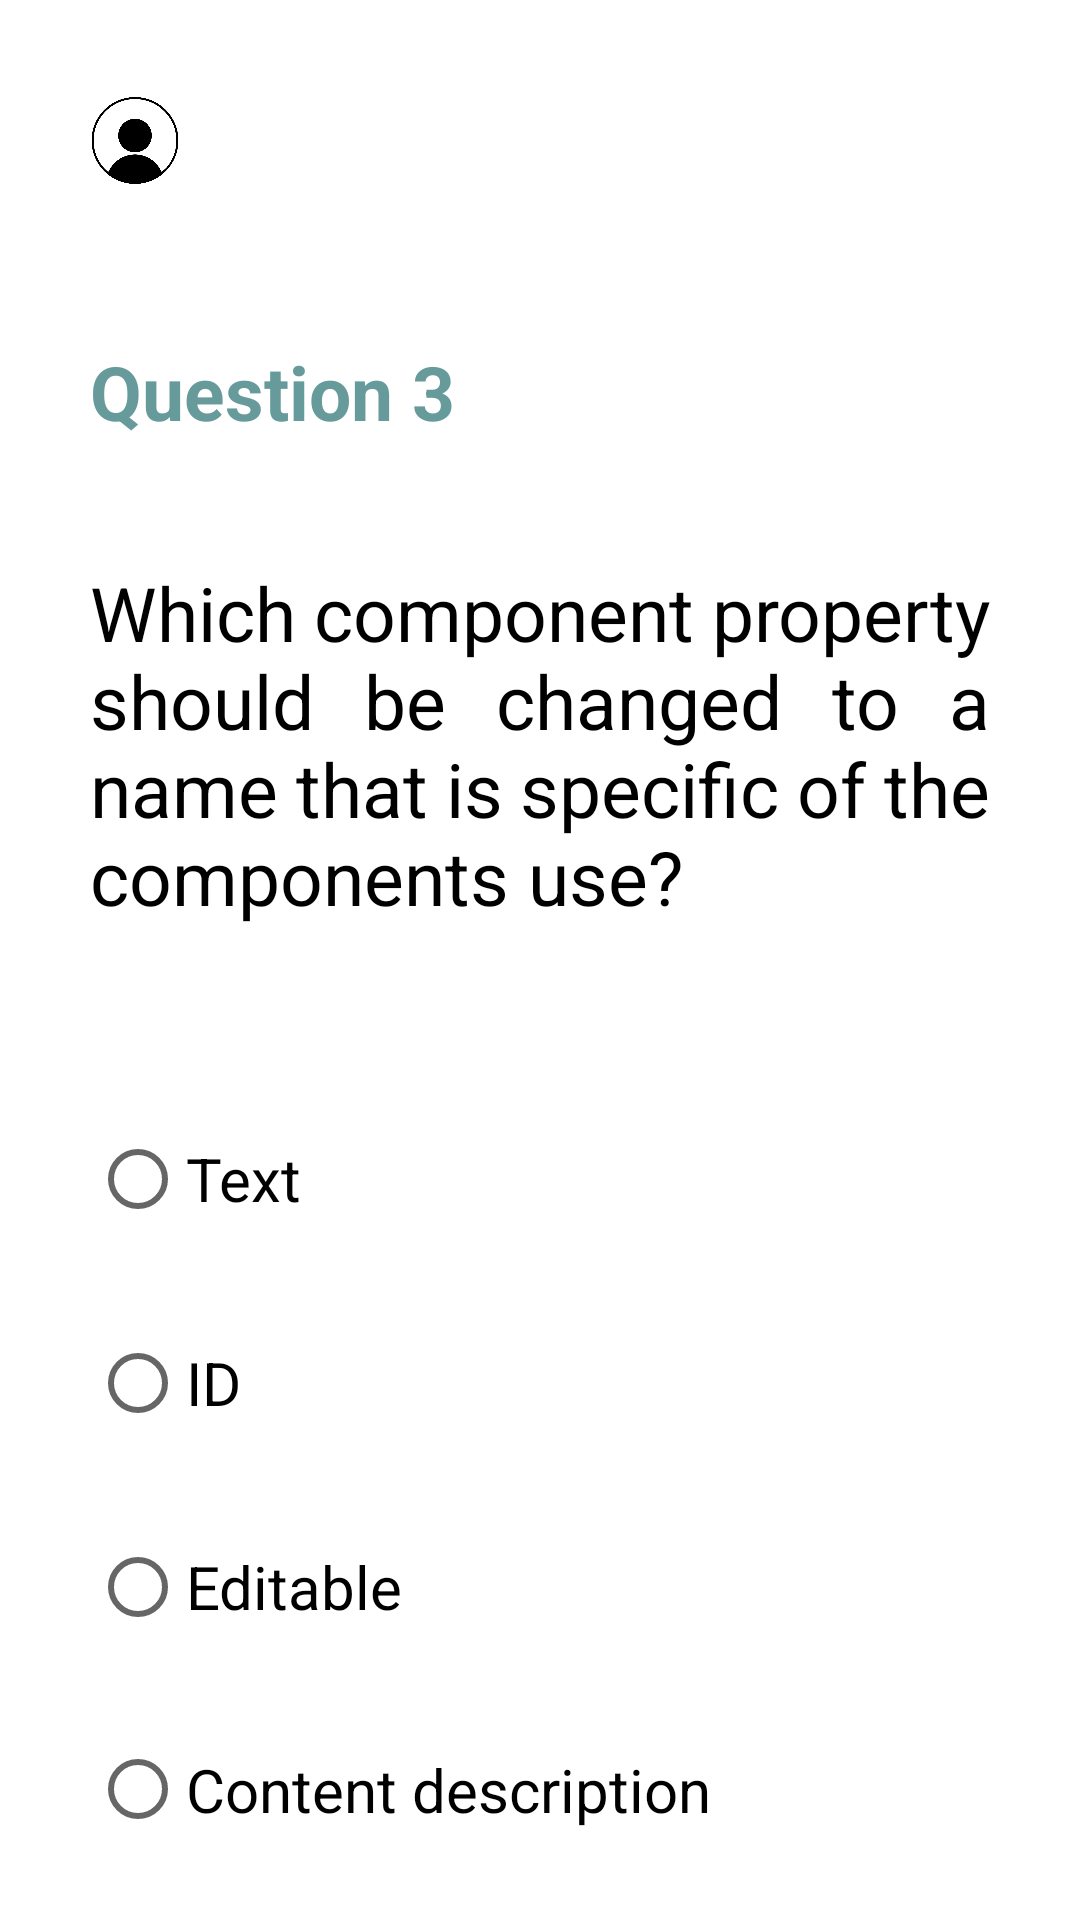

Icon click points for this 1080x1920 phone screenshot, format point (x, y):
profil: point (135, 140)
